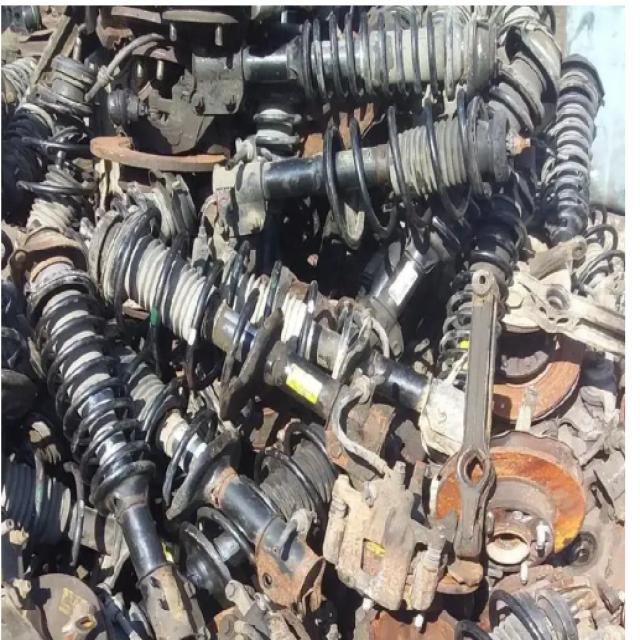shock absorber: (7, 223, 194, 637), (87, 203, 350, 425), (213, 88, 531, 256), (188, 12, 491, 115), (541, 53, 606, 248)
